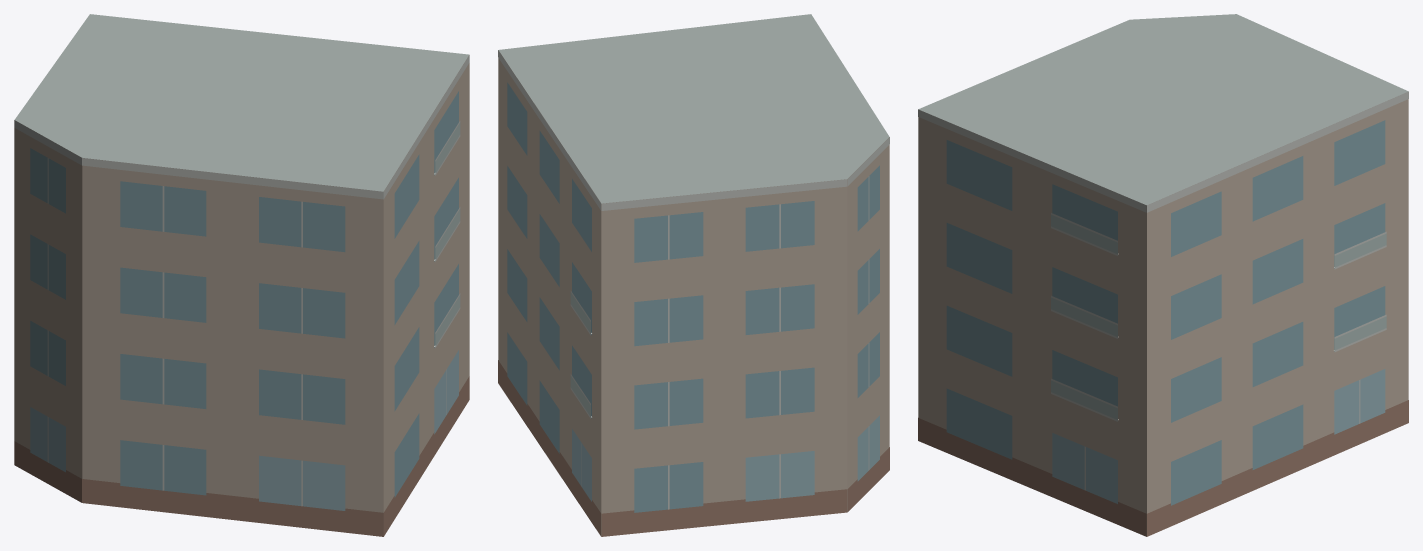
The model's file is survey-upis-32713018.glb.
The picture shows the model from 3 angles, left to right: view 1: azimuth 30°, elevation 25°; view 2: azimuth 150°, elevation 25°; view 3: azimuth 270°, elevation 25°; orthographic projection. The views are drawn at different scales.
Visible parts, largest first — view 1: survey-upis-32713018.tmp; view 2: survey-upis-32713018.tmp; view 3: survey-upis-32713018.tmp.
Boxes of the visible parts, x1,y1,x2,y2 form: survey-upis-32713018.tmp: (14,14,469,536); survey-upis-32713018.tmp: (498,14,889,536); survey-upis-32713018.tmp: (918,14,1408,536).
Size of the model in its own units: 13.38 by 10.8 by 14.5.
